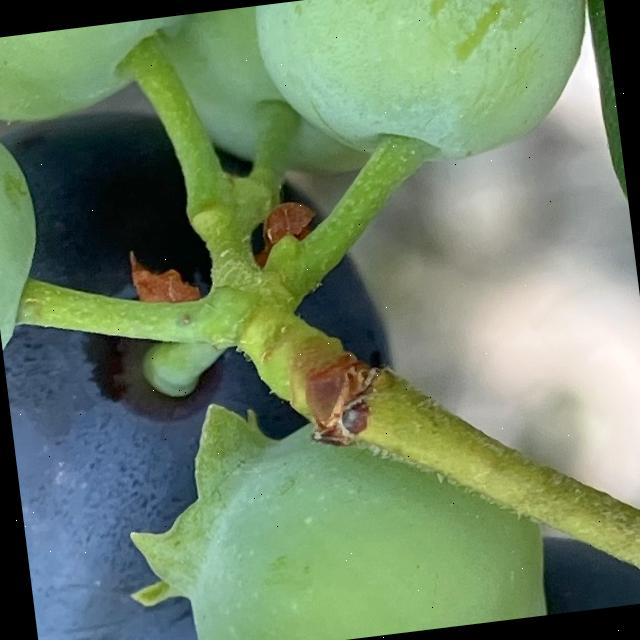Blueberries: (234, 0, 616, 207)
